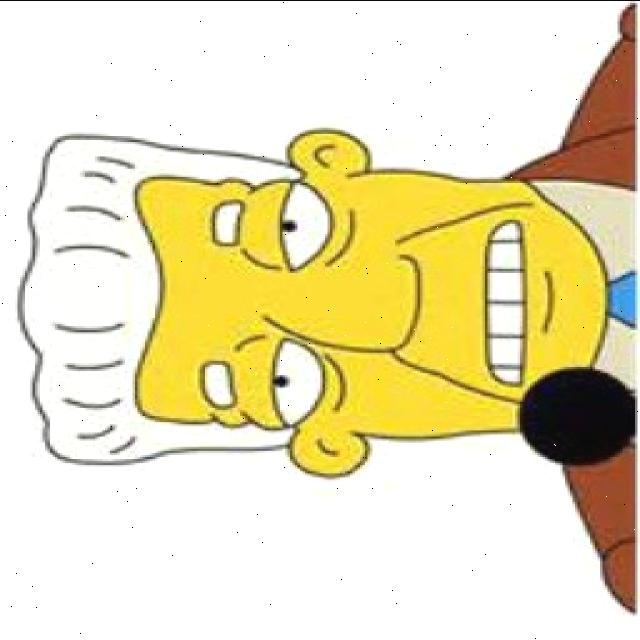Kent Brockman: (11, 124, 614, 480)
